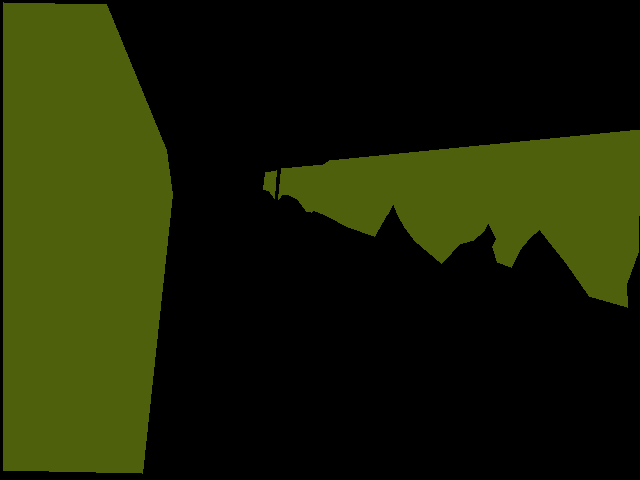Train: (3, 2, 173, 474), (263, 129, 640, 307)
